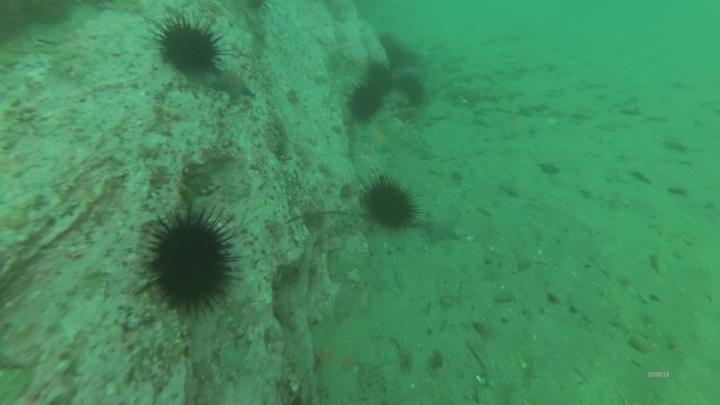echinus: (156, 226, 229, 303), (165, 26, 215, 73), (365, 181, 414, 228), (398, 72, 427, 109), (348, 87, 380, 120), (366, 63, 391, 88)
holothurian: (449, 84, 525, 104)
starfish: (215, 67, 255, 98), (422, 213, 459, 243), (365, 126, 397, 153)
